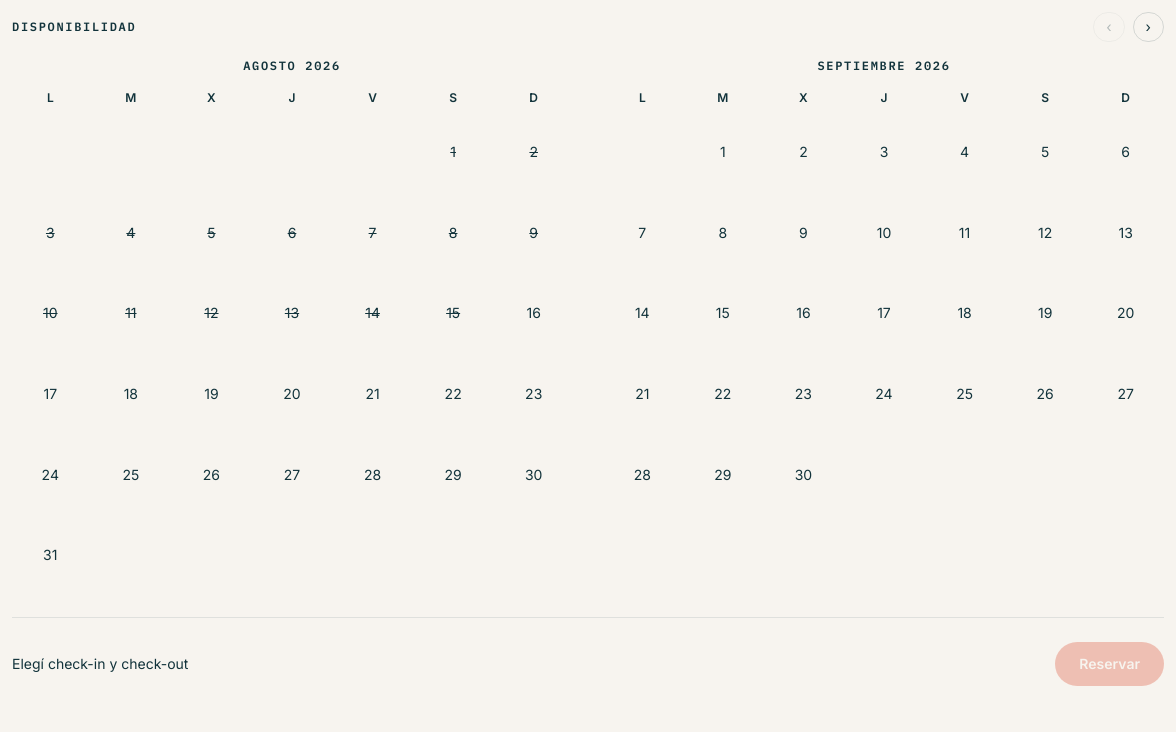
Test: AvailabilityCalendar — selección de fechas › clickear un día futuro lo marca como check-in
Click the button "20" below "Agosto" at {"x": 292, "y": 394}, box [254, 356, 330, 432]
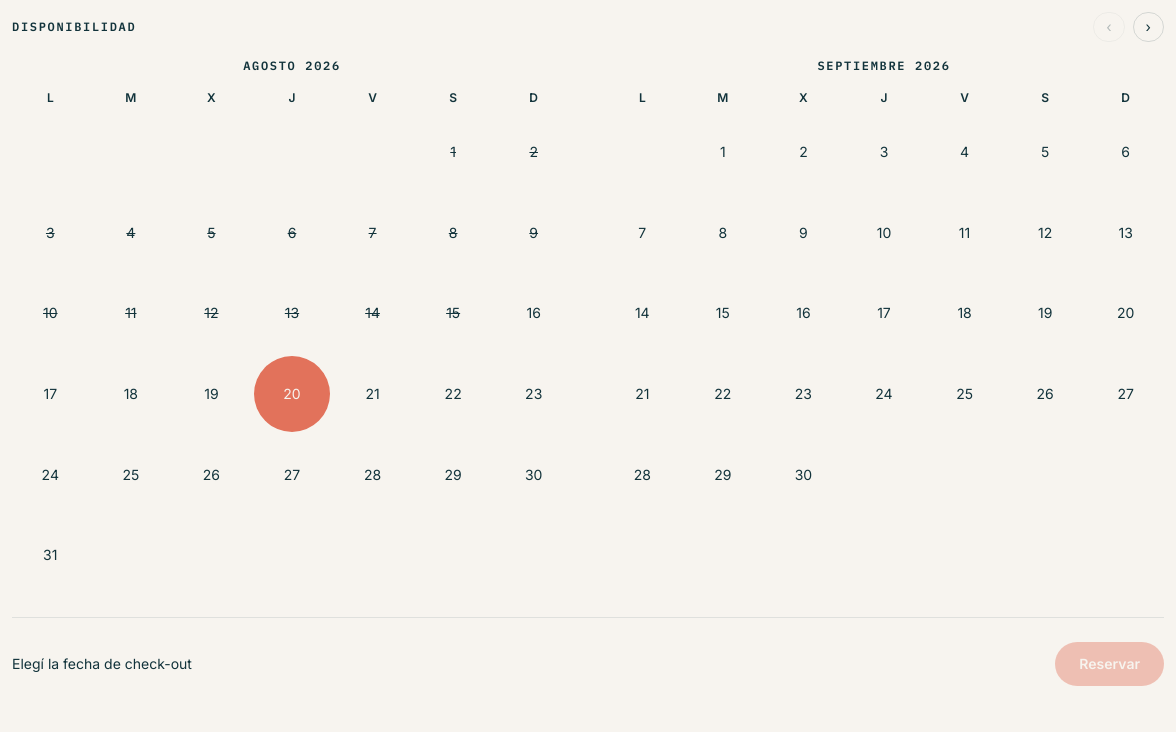
Result: the text "Elegí la fecha de check-out" is shown at [12, 654, 192, 674]
